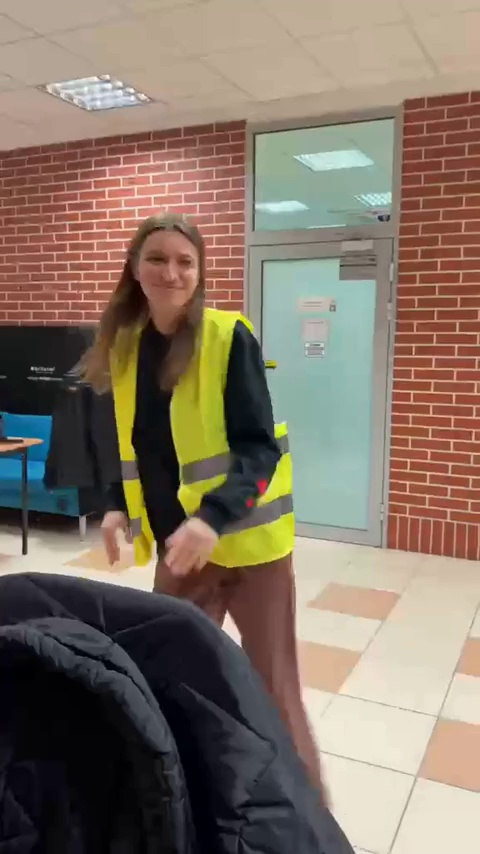vest: (77, 210, 310, 682)
